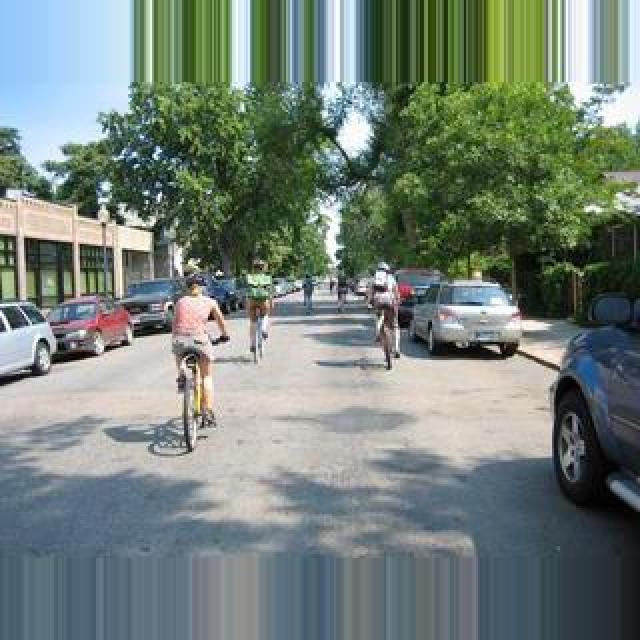Bus-Bike: (548, 312, 640, 512), (412, 280, 522, 358), (46, 296, 134, 358), (0, 302, 56, 380), (120, 278, 188, 334)
MC-Bike: (170, 276, 232, 426), (242, 270, 274, 358)
Person: (176, 350, 216, 454), (376, 312, 400, 370)
